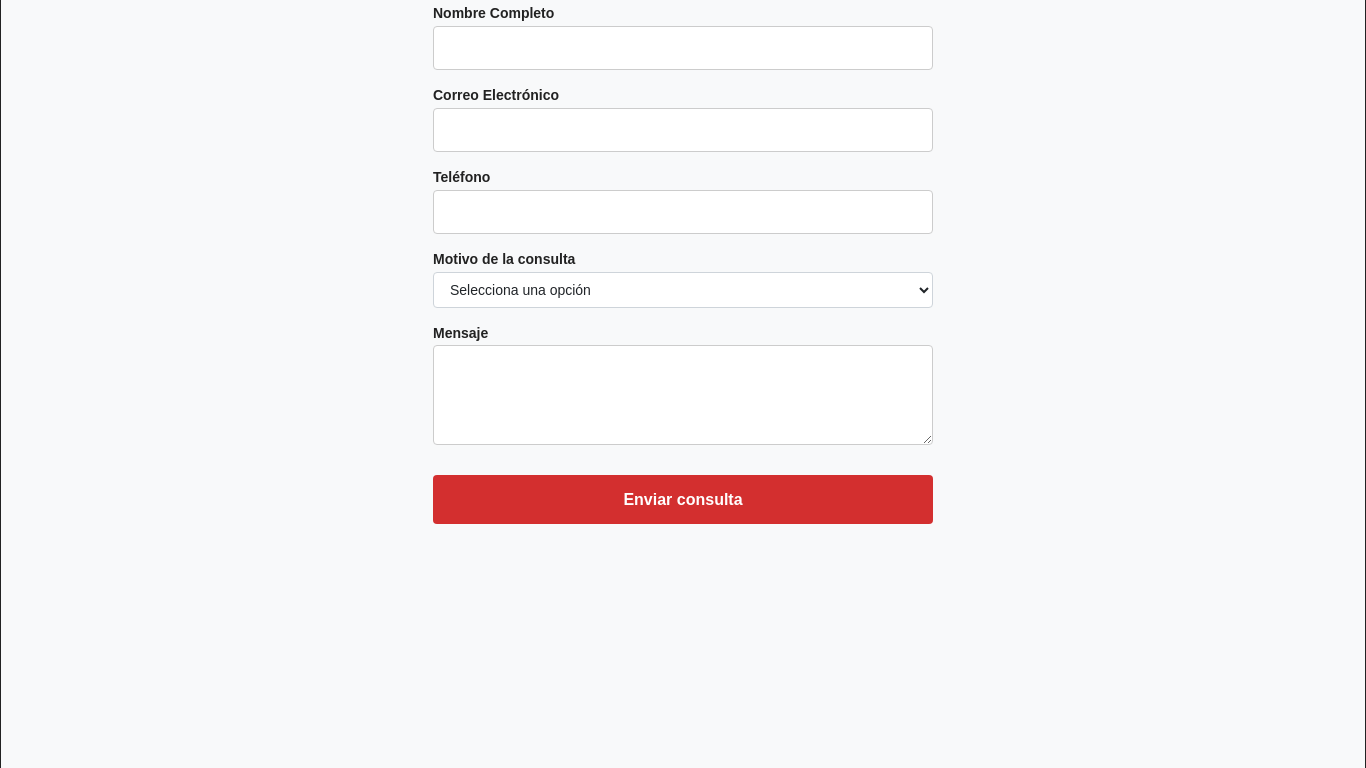
FormularioContacto › envío › muestra los errores y no confirma el envío si el formulario está vacío
The image size is (1366, 768).
What coordinates should you click on to do the following:
click the button "Enviar consulta"
I would click on:
 (683, 500)
Its box is [433,475,933,524].
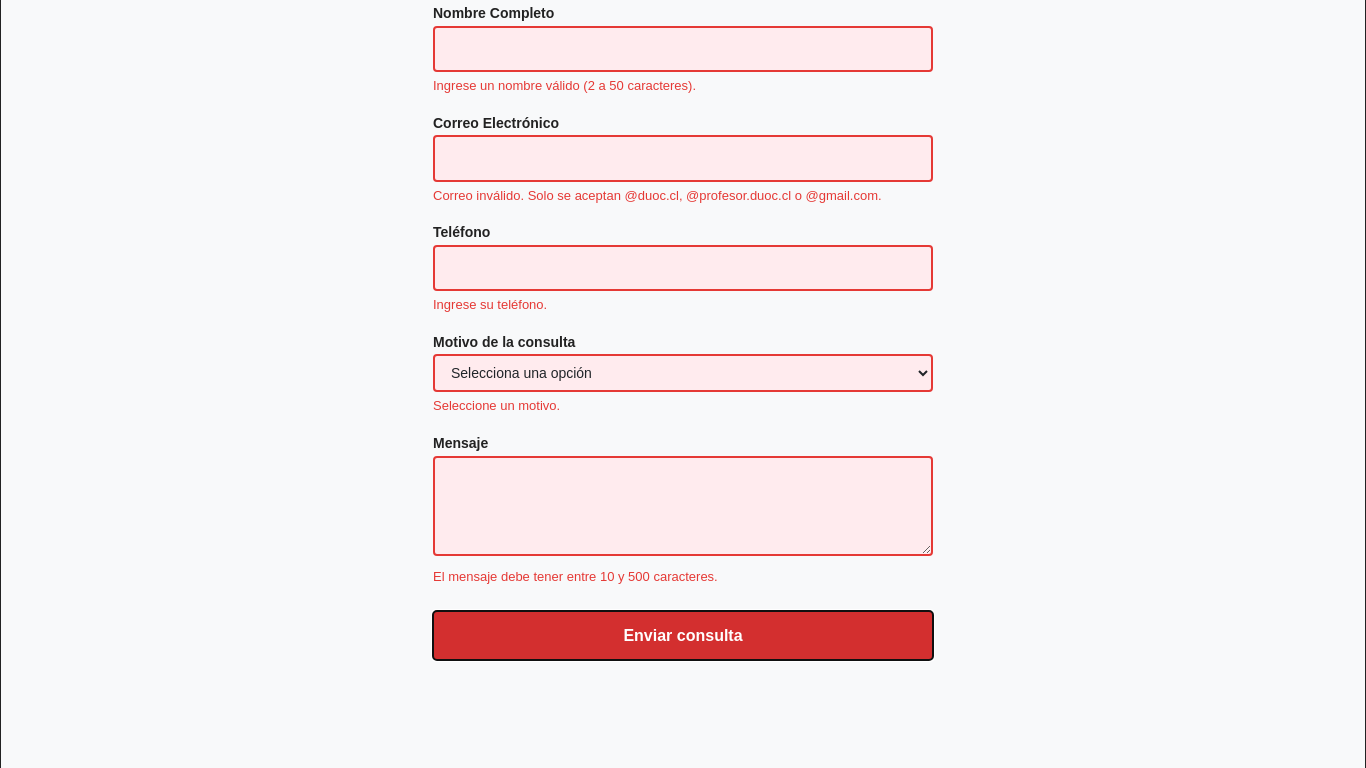
expect the text "Ingrese su teléfono." is shown: met, box [433,297,547,312]
expect the text "Seleccione un motivo." is shown: met, box [433,398,560,413]
